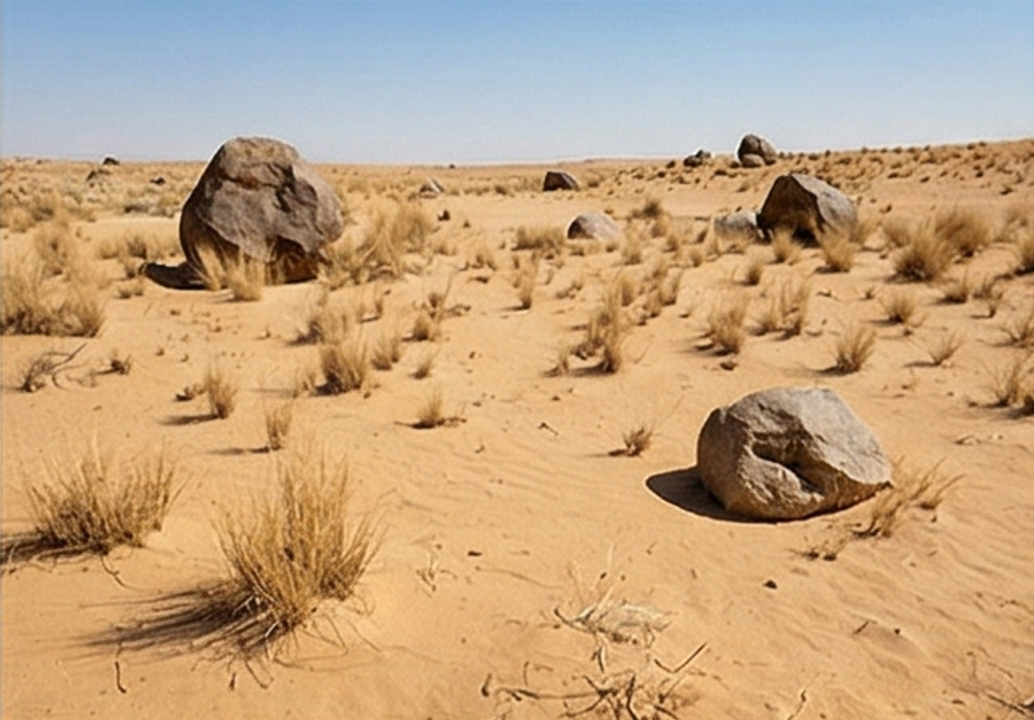rocks: (697, 387, 890, 517), (179, 137, 342, 280), (757, 174, 859, 240)
